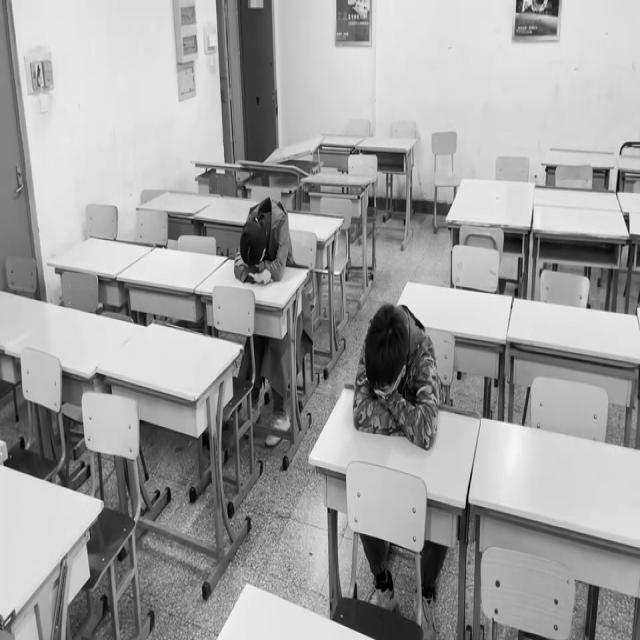sleep: (352, 307, 439, 433), (238, 206, 285, 285)
